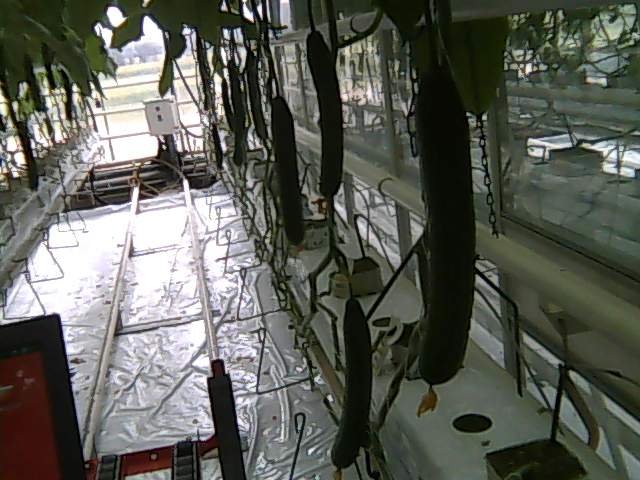concombre: (412, 58, 481, 418), (328, 291, 378, 480), (305, 22, 348, 216)
